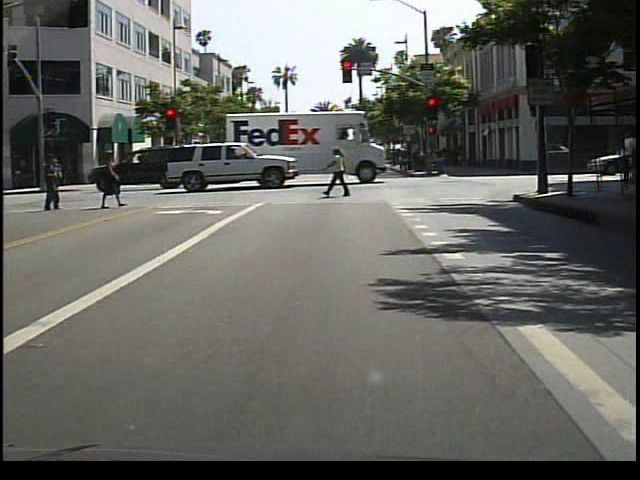person: (42, 154, 70, 212), (328, 147, 357, 202), (99, 150, 124, 213)
